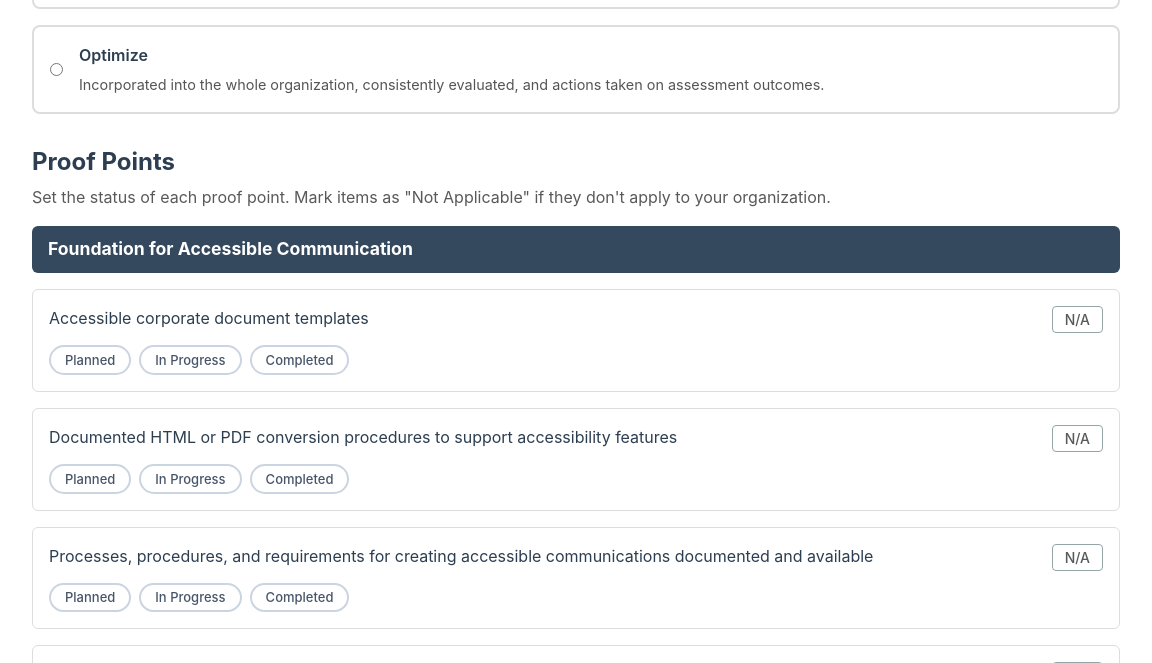
it: DimensionDetail Component - Form Interactions › shows evidence textarea when proof point is completed
(page scrolled)
// Mark the first proof point as completed
What coordinates should you click on to do the following:
click the button with aria-label "mark as completed"
I would click on:
 (300, 360)
Its box is [250,345,350,375].
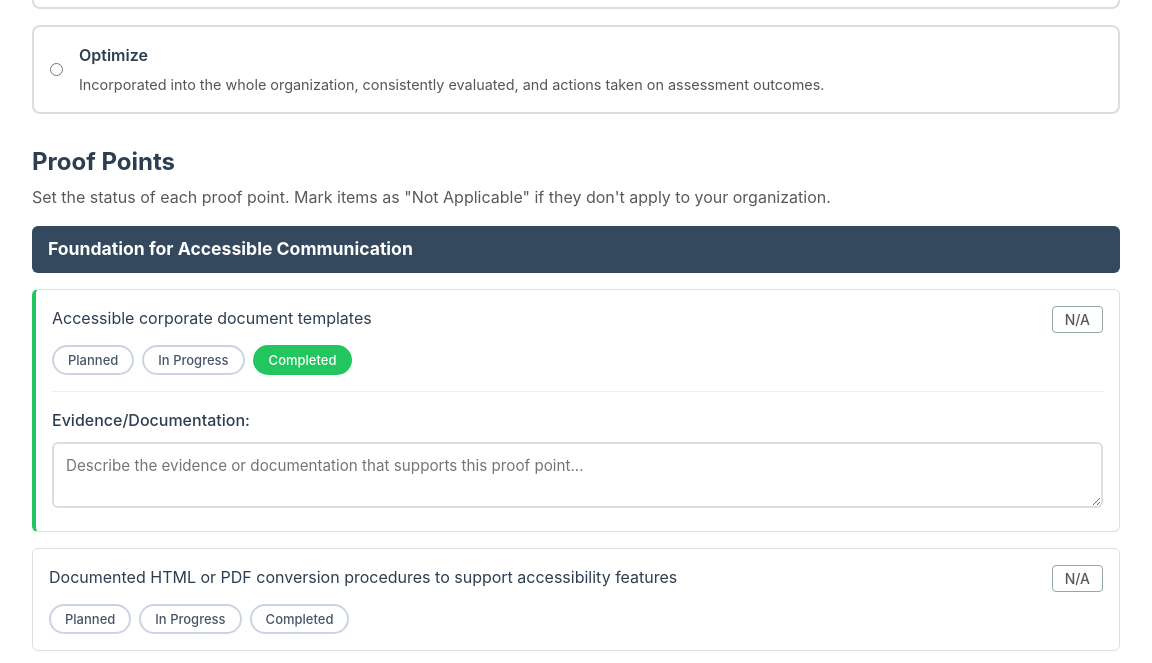
Check: the text box labelled "Evidence/Documentation:" is shown, box [52,442,1103,508]
